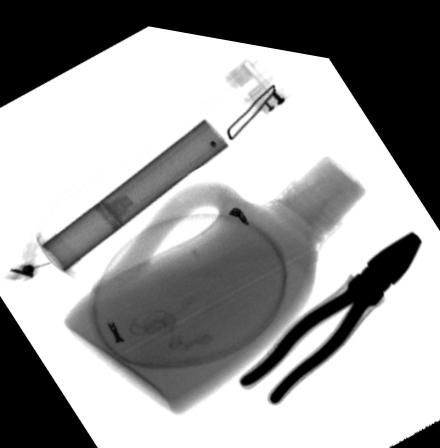Pliers: (236, 215, 423, 397)
